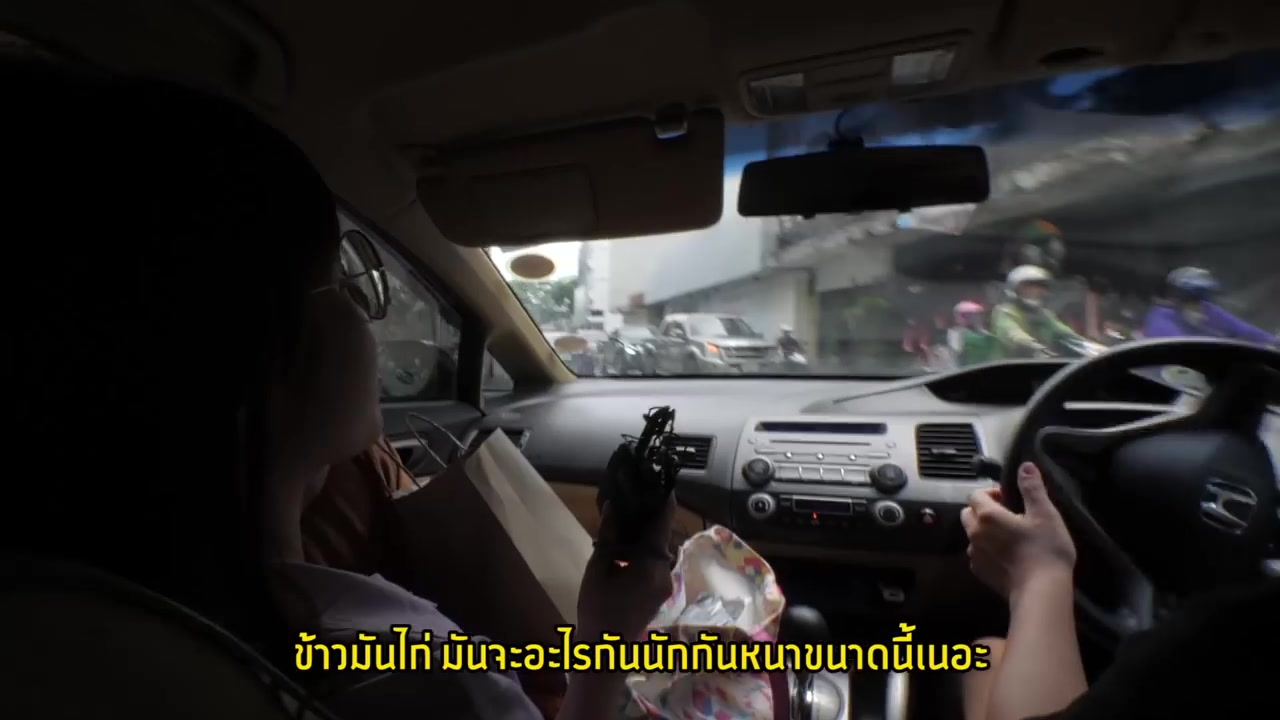text-label: (294, 621, 995, 680)
